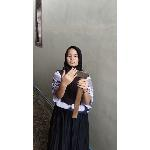Kapak: (68, 68, 90, 120)
